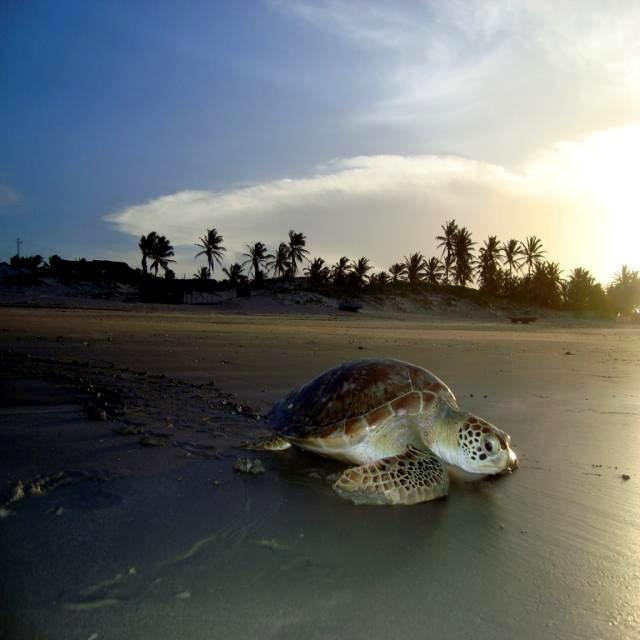Sea turtle: (250, 358, 524, 511)
